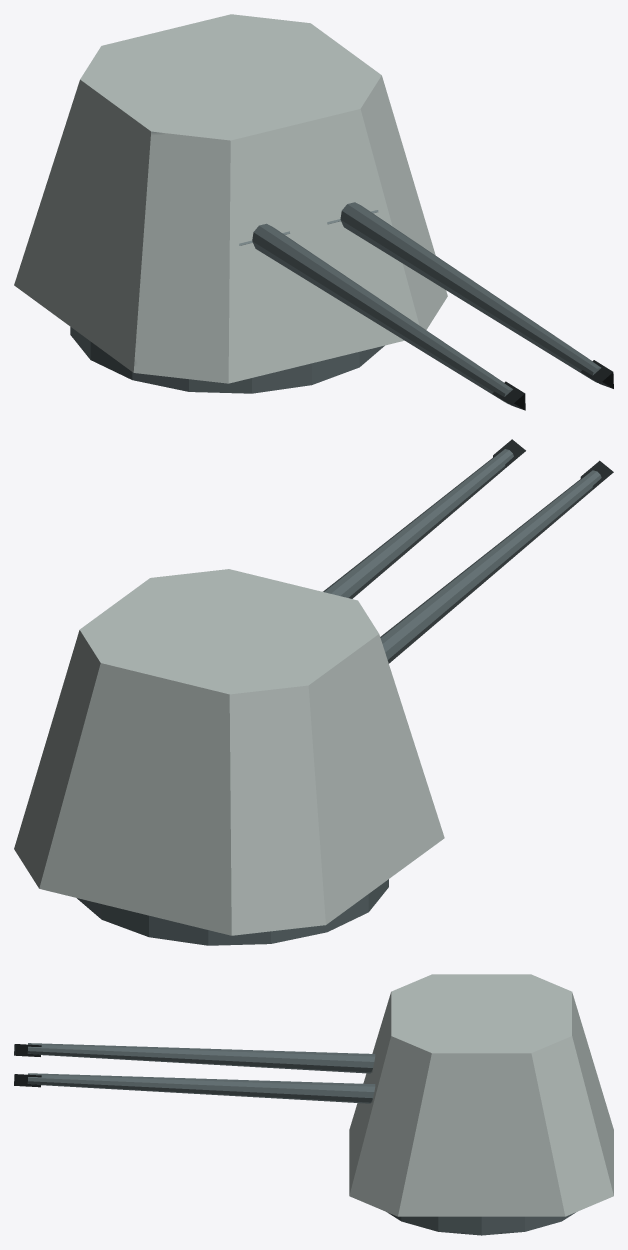
File: mount_artillery_turret.glb
The picture shows the model from 3 angles, top to bottom: view 1: azimuth 30°, elevation 25°; view 2: azimuth 150°, elevation 25°; view 3: azimuth 270°, elevation 25°; orthographic projection. The views are drawn at different scales.
Parts seen in each view (by area): view 1: MESH_SLAVA_TEMPLATE_artillery; view 2: MESH_SLAVA_TEMPLATE_artillery; view 3: MESH_SLAVA_TEMPLATE_artillery.
Boxes of the visible parts, x1,y1,x2,y2 form: MESH_SLAVA_TEMPLATE_artillery: (14, 14, 613, 410); MESH_SLAVA_TEMPLATE_artillery: (14, 439, 613, 945); MESH_SLAVA_TEMPLATE_artillery: (14, 974, 613, 1235).
Bounding box in the file's own units: 4.29 × 3.24 × 10.15.
Materials: 1 (1 with a texture image).
